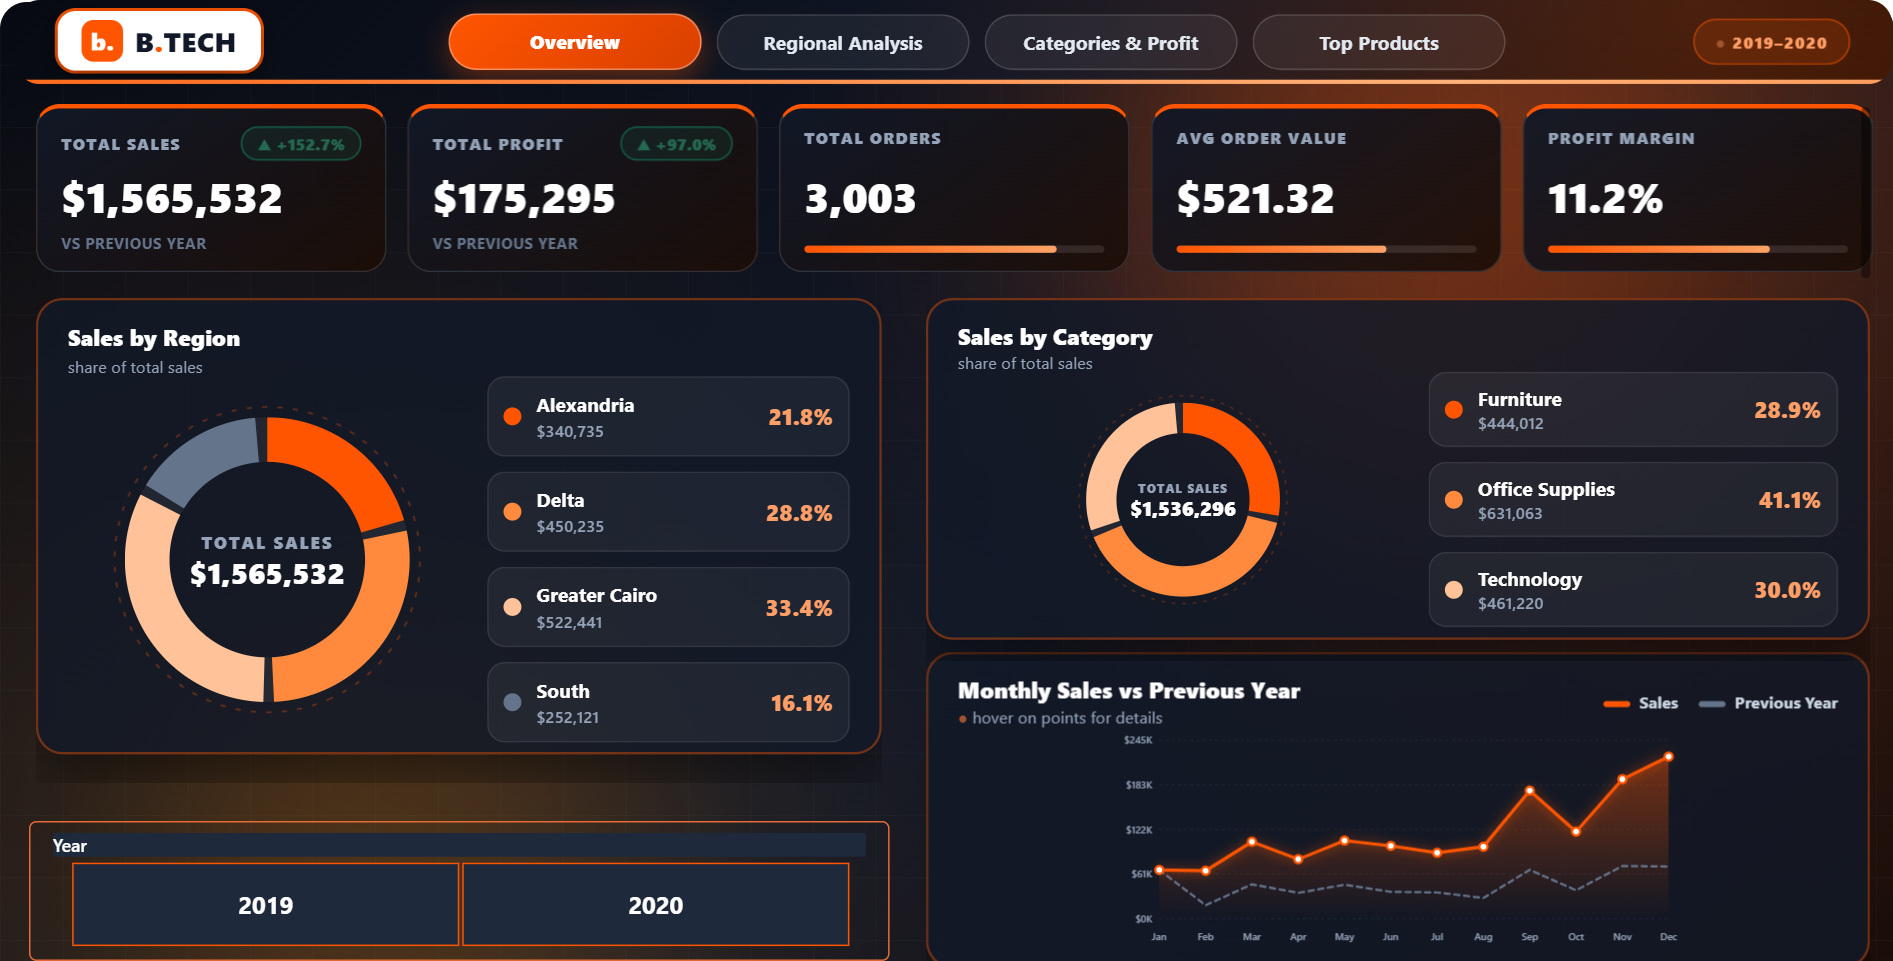

The dashboard page shown, as its layout file describes it:
{"tool":"powerbi","page":{"name":"Overview","canvas":[1280,720],"ordinal":1},"visuals":[{"type":"htmlContent443BE3AD55E043BF878BED274D3A6855","fields":{"content":["Dax (2).Bg_Page"]},"box":[0,1.7,1281.7,718.3],"z":0},{"type":"htmlContent443BE3AD55E043BF878BED274D3A6855","fields":{"content":["Dax (2).Nav_Overview"]},"box":[10.2,0,1269.8,70],"z":1000},{"type":"htmlContent443BE3AD55E043BF878BED274D3A6855","fields":{"content":["Dax (2).KPI_Overview"]},"box":[24,70,1244,130],"z":2000},{"type":"actionButton","box":[40.9,10.2,139.8,51.1],"z":3000},{"type":"actionButton","box":[490.8,0,171.4,61.4],"z":4000},{"type":"actionButton","box":[662.2,0,171.4,61.4],"z":5000},{"type":"actionButton","box":[833.6,2.1,171.4,61.4],"z":6000},{"type":"htmlContent443BE3AD55E043BF878BED274D3A6855","fields":{"content":["Dax (2).Chart_Line"]},"box":[622,438,644,236],"z":7000},{"type":"htmlContent443BE3AD55E043BF878BED274D3A6855","fields":{"content":["Dax (2).Chart_Donut"]},"box":[622,200,644,254],"z":8000},{"type":"slicer","fields":{"Values":["Dim_Date.Year"]},"box":[24,556,578,94],"z":9000},{"type":"htmlContent443BE3AD55E043BF878BED274D3A6855","fields":{"content":["Dax (2).Chart_Donut_Region"]},"box":[24,200,578,336],"z":10000}]}

Visuals, with their boxes on the page's 1280x720 design canvas (x1, y1, x2, y2). These are canvas units, not pixel positions in the 1893x961 screenshot, which may show the page scaled, cropped or inside an application window:
htmlContent443BE3AD55E043BF878BED274D3A6855 - Dax (2).Bg_Page: bbox=(0, 2, 1282, 720)
htmlContent443BE3AD55E043BF878BED274D3A6855 - Dax (2).Nav_Overview: bbox=(10, 0, 1280, 70)
htmlContent443BE3AD55E043BF878BED274D3A6855 - Dax (2).KPI_Overview: bbox=(24, 70, 1268, 200)
actionButton: bbox=(41, 10, 181, 61)
actionButton: bbox=(491, 0, 662, 61)
actionButton: bbox=(662, 0, 834, 61)
actionButton: bbox=(834, 2, 1005, 64)
htmlContent443BE3AD55E043BF878BED274D3A6855 - Dax (2).Chart_Line: bbox=(622, 438, 1266, 674)
htmlContent443BE3AD55E043BF878BED274D3A6855 - Dax (2).Chart_Donut: bbox=(622, 200, 1266, 454)
slicer - Dim_Date.Year: bbox=(24, 556, 602, 650)
htmlContent443BE3AD55E043BF878BED274D3A6855 - Dax (2).Chart_Donut_Region: bbox=(24, 200, 602, 536)
